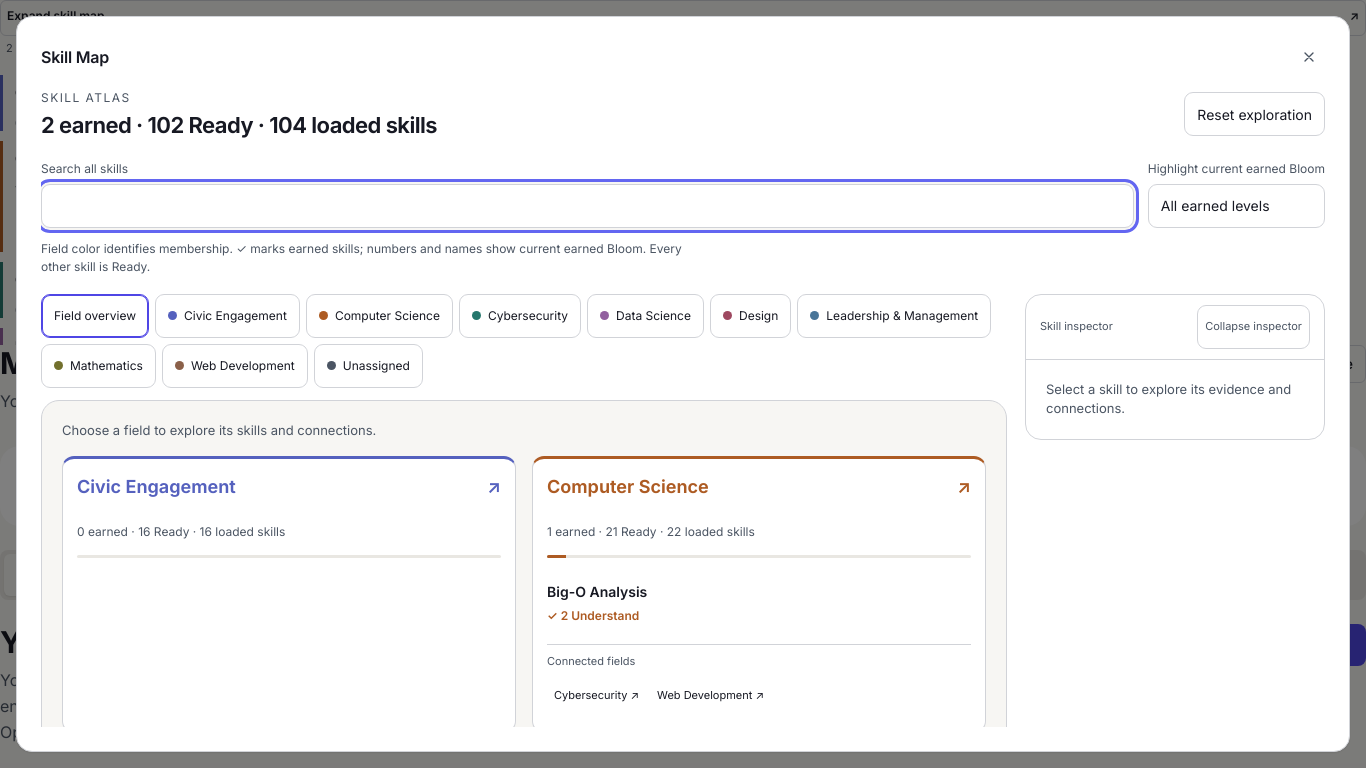
offers a course and enrollment for an already earned skill from the modal
Click the button "Big-O Analysis ✓ 2 Understand": (597, 592) x1=547 y1=572 x2=971 y2=634
(page scrolled)
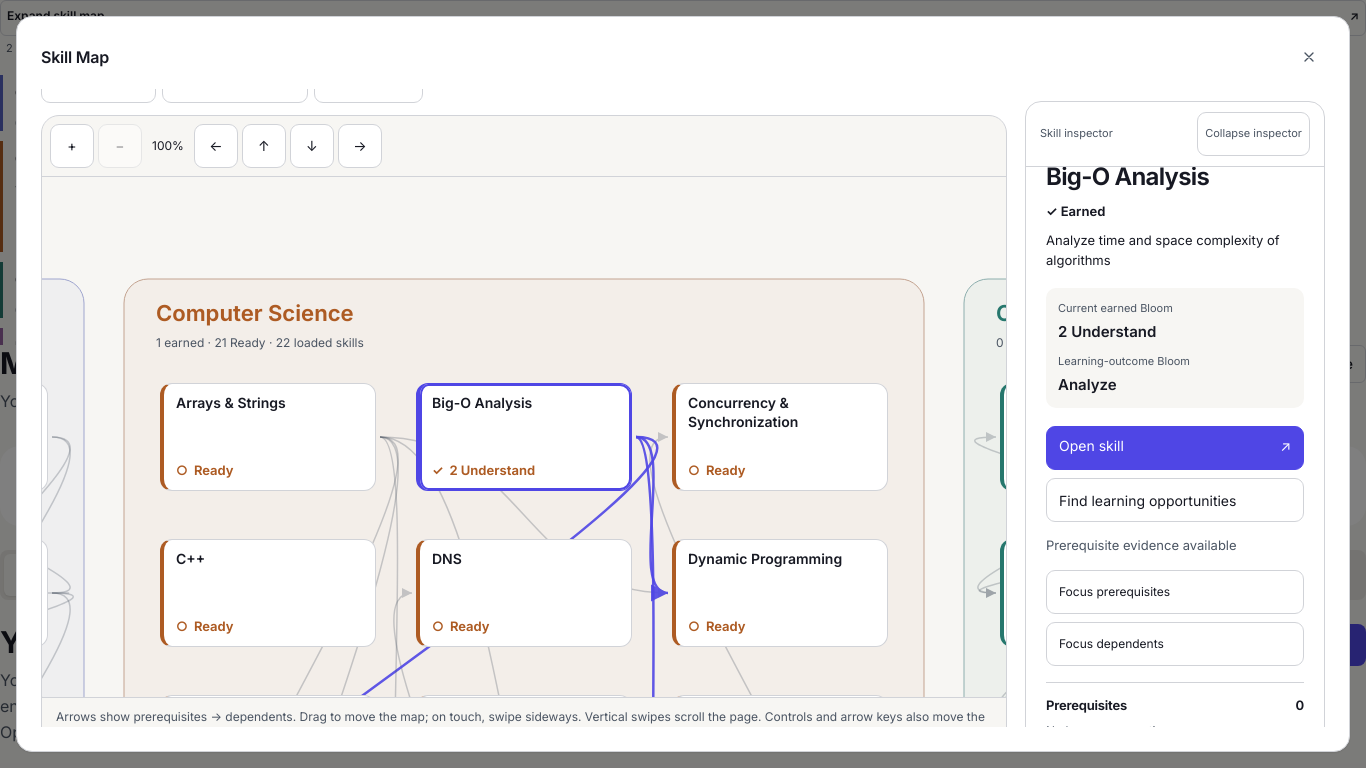
Click the button "Find learning opportunities": (1175, 501) x1=1046 y1=479 x2=1304 y2=523
(page scrolled)
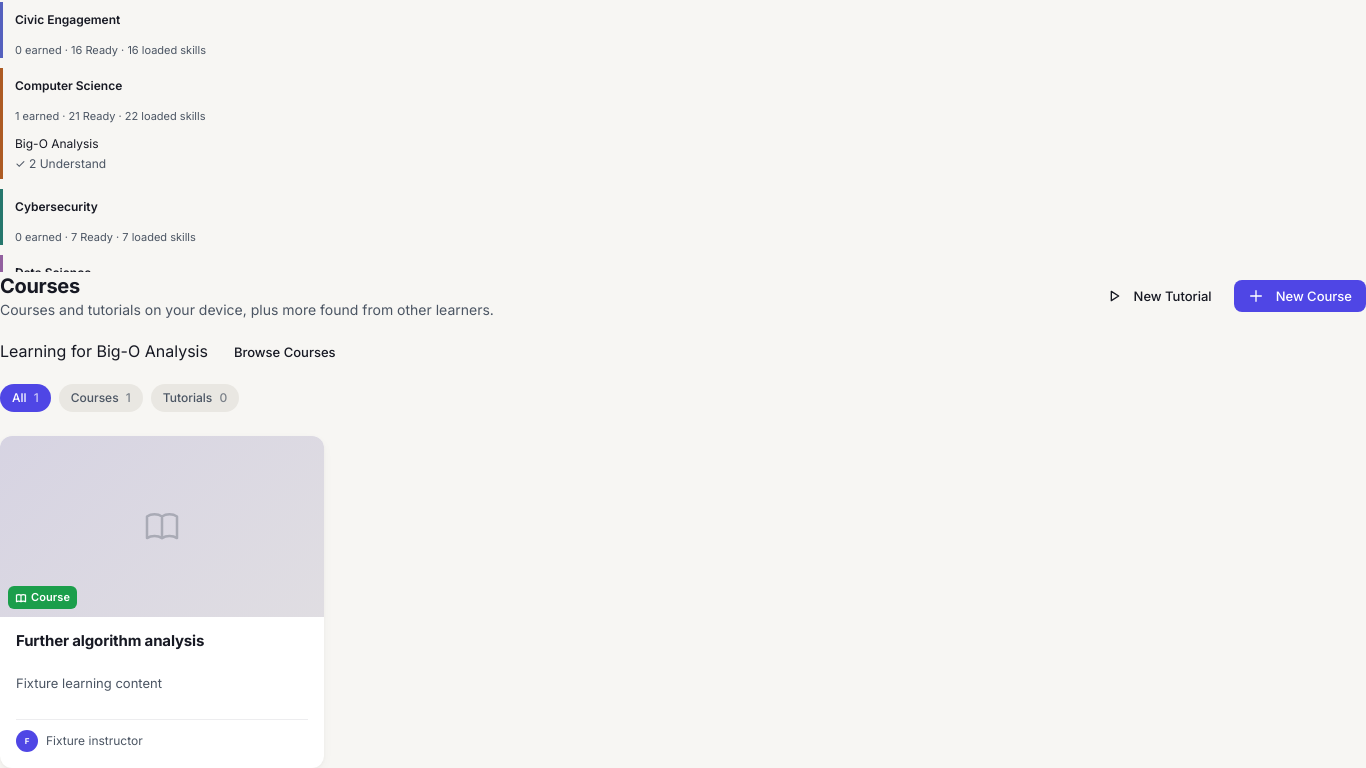
Expected: the text "Learning for Big-O Analysis" is shown, x1=0 y1=339 x2=208 y2=364
Click the link with class "cc-grid": (162, 602) x1=0 y1=436 x2=324 y2=767
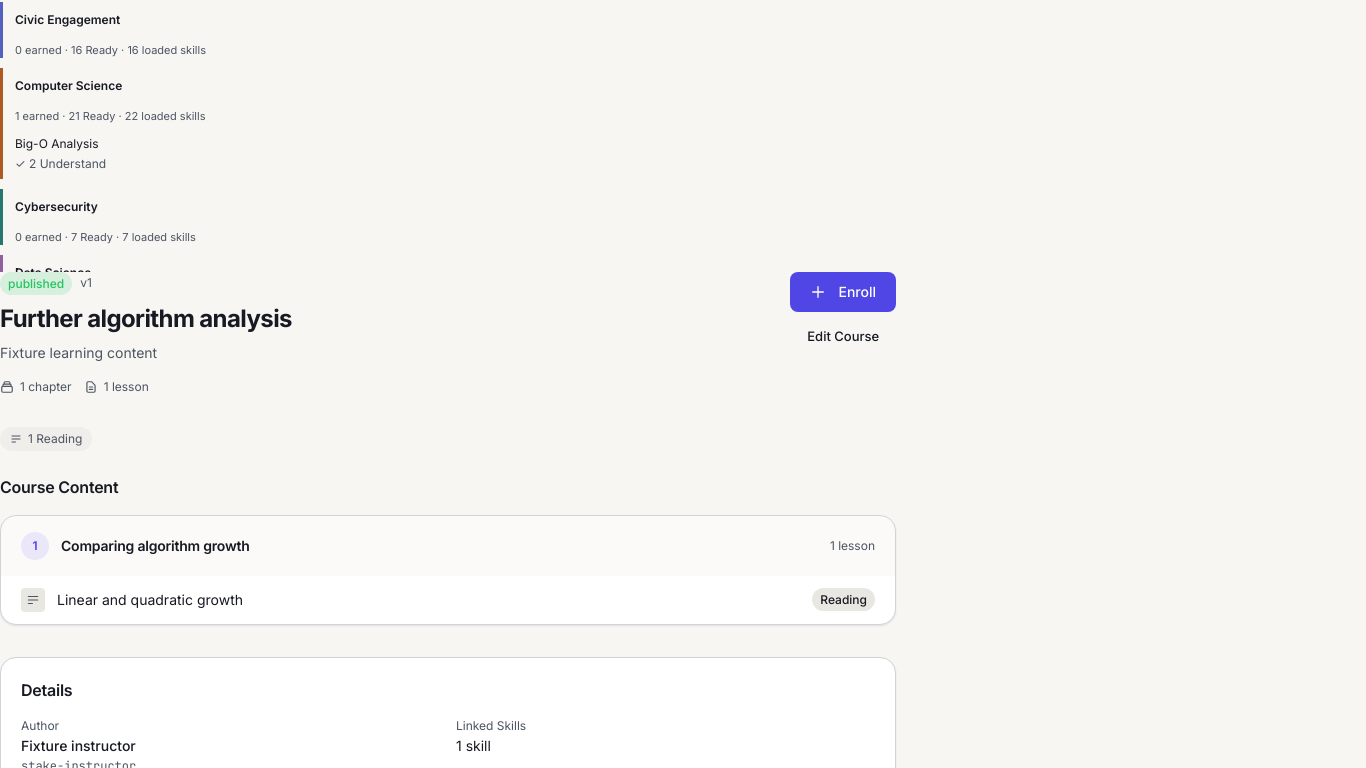
Expected: the heading "Further algorithm analysis" is shown, x1=0 y1=303 x2=292 y2=335
Expected: the text "Linear and quadratic growth" is shown, x1=57 y1=590 x2=243 y2=610
Expected: the button "Enroll" is enabled, x1=790 y1=272 x2=896 y2=312
